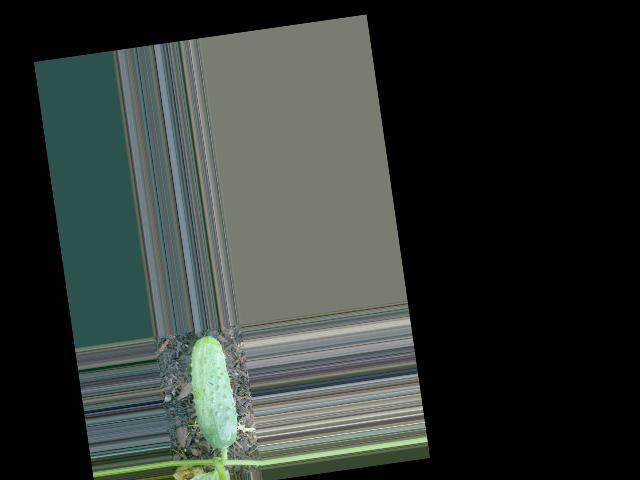cucumber: (184, 332, 241, 451)
